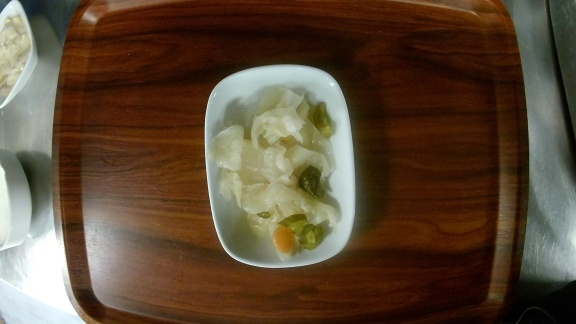tursu: (205, 63, 358, 269)
